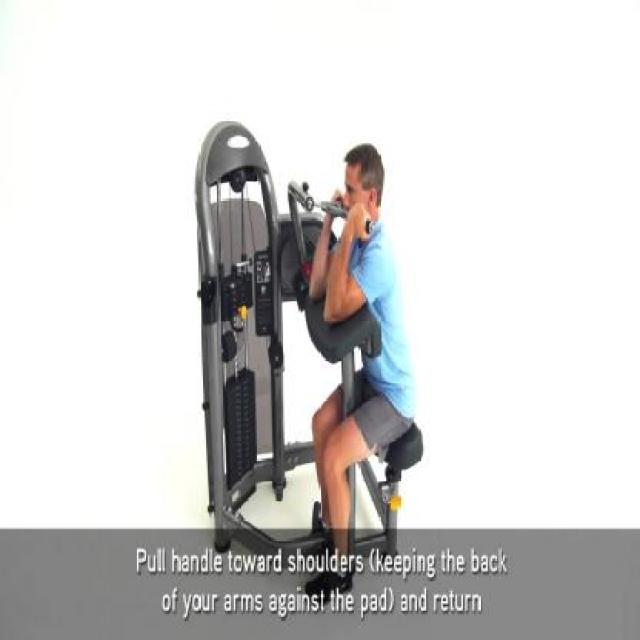arm curl machine: (194, 180, 423, 528)
